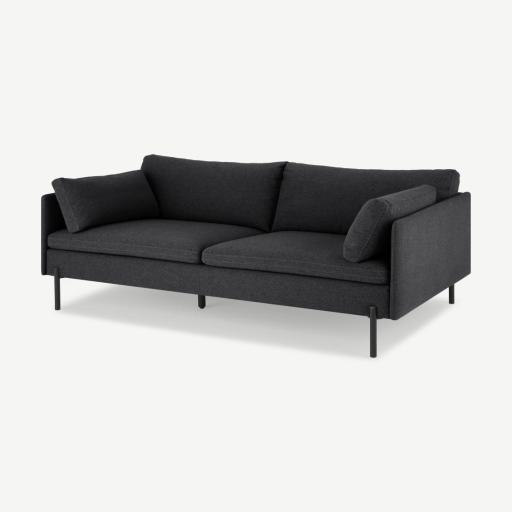back_cushion: (143, 156, 434, 234)
base: (47, 249, 388, 317)
left_arm: (386, 193, 470, 319)
legs: (369, 306, 377, 358), (53, 267, 60, 310), (198, 294, 206, 309), (449, 285, 454, 303)
right_arm: (41, 194, 65, 275)
seat_cushion: (50, 219, 388, 284)
two-seater: (0, 0, 511, 512)
